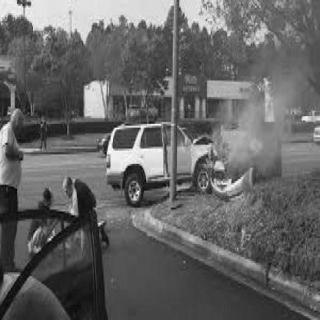Fire: (210, 100, 268, 172)
